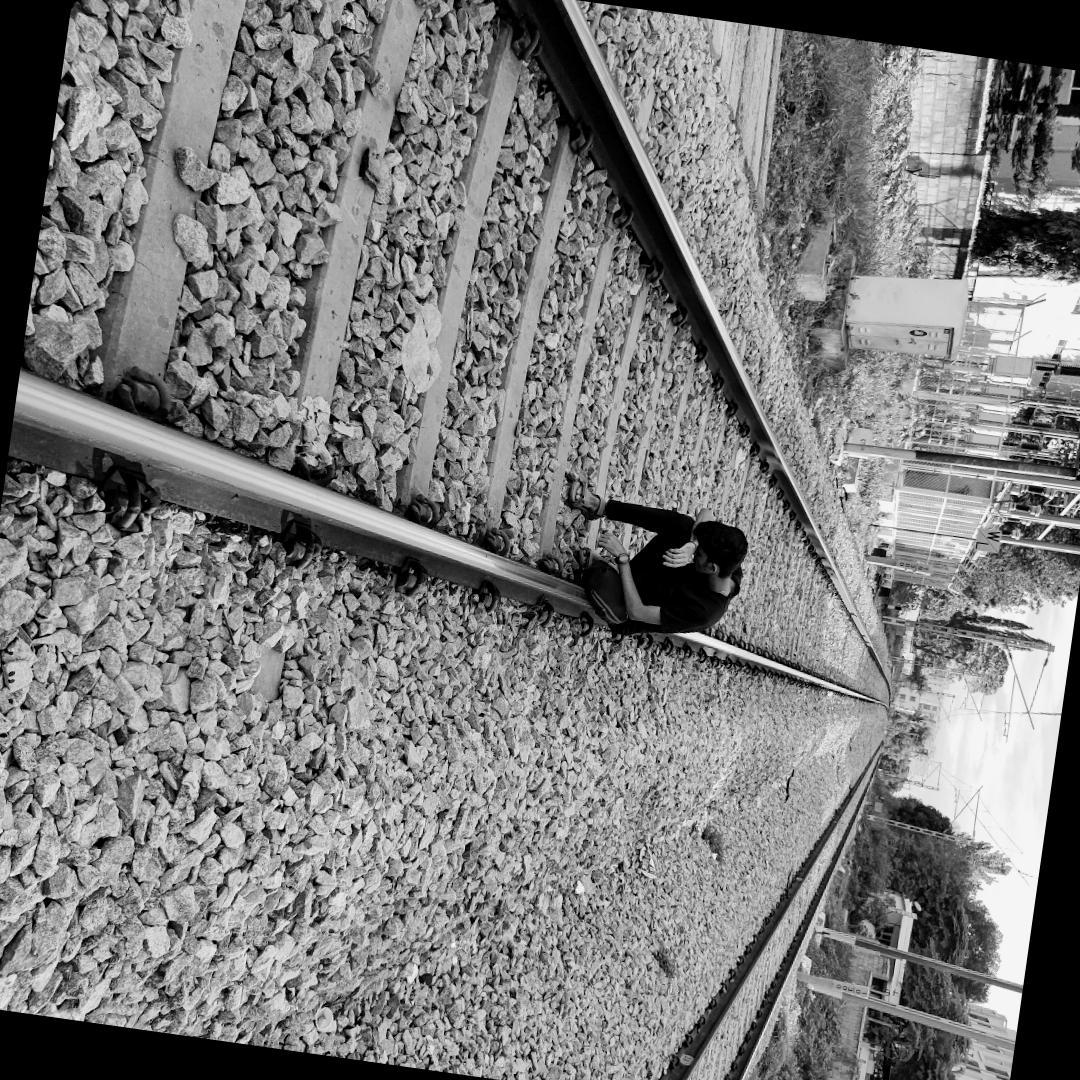sitting: (554, 462, 754, 656)
